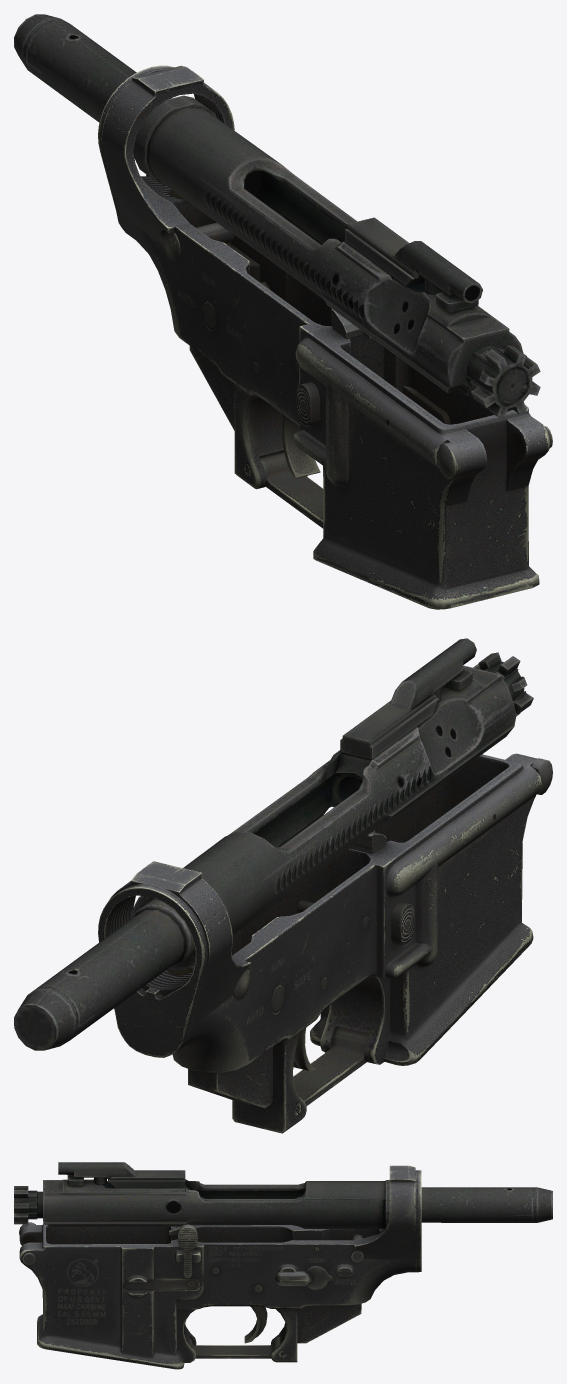
The model's file is weapon_colt_m4a1_556x45_model.fbx.
3 renders of one model, top to bottom at view 1: azimuth 30°, elevation 25°; view 2: azimuth 150°, elevation 25°; view 3: azimuth 270°, elevation 25°, orthographic. The views are drawn at different scales.
Parts seen in each view (by area): view 1: weapon_colt_m4a1_556x45_LOD0, weapon_colt_m4a1_556x45_bolt_LOD0, release_LOD0, trigger_LOD0; view 2: weapon_colt_m4a1_556x45_LOD0, weapon_colt_m4a1_556x45_bolt_LOD0, release_LOD0; view 3: weapon_colt_m4a1_556x45_LOD0, weapon_colt_m4a1_556x45_bolt_LOD0, selector_LOD0, release_LOD0, bolt_catch_LOD0, trigger_LOD0.
Part boxes in pixels (box(x1,y1,x2,y2)): weapon_colt_m4a1_556x45_LOD0: box(98, 65, 552, 609); weapon_colt_m4a1_556x45_bolt_LOD0: box(14, 14, 540, 417); release_LOD0: box(296, 382, 450, 427); trigger_LOD0: box(282, 414, 320, 478); weapon_colt_m4a1_556x45_LOD0: box(98, 753, 552, 1133); weapon_colt_m4a1_556x45_bolt_LOD0: box(14, 638, 533, 1050); release_LOD0: box(391, 901, 414, 946); weapon_colt_m4a1_556x45_LOD0: box(19, 1165, 421, 1369); weapon_colt_m4a1_556x45_bolt_LOD0: box(14, 1162, 552, 1228); selector_LOD0: box(275, 1265, 333, 1289); release_LOD0: box(123, 1278, 200, 1289); bolt_catch_LOD0: box(169, 1224, 197, 1278); trigger_LOD0: box(244, 1306, 267, 1343).
Size of what is drawn, in the model's own units: 0.0373 by 0.1049 by 0.2653.
